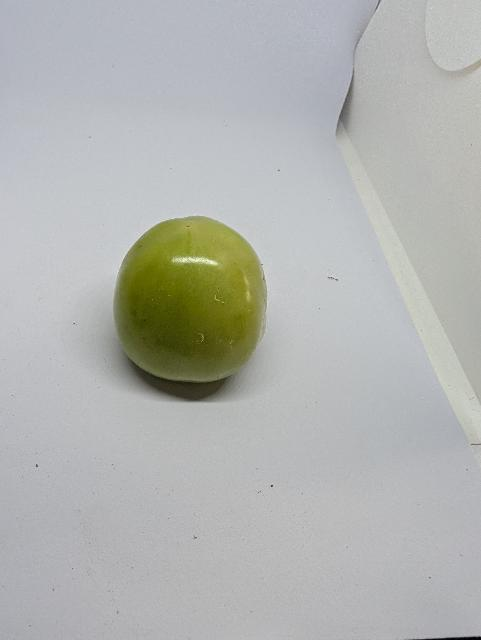green: (106, 212, 281, 392)
